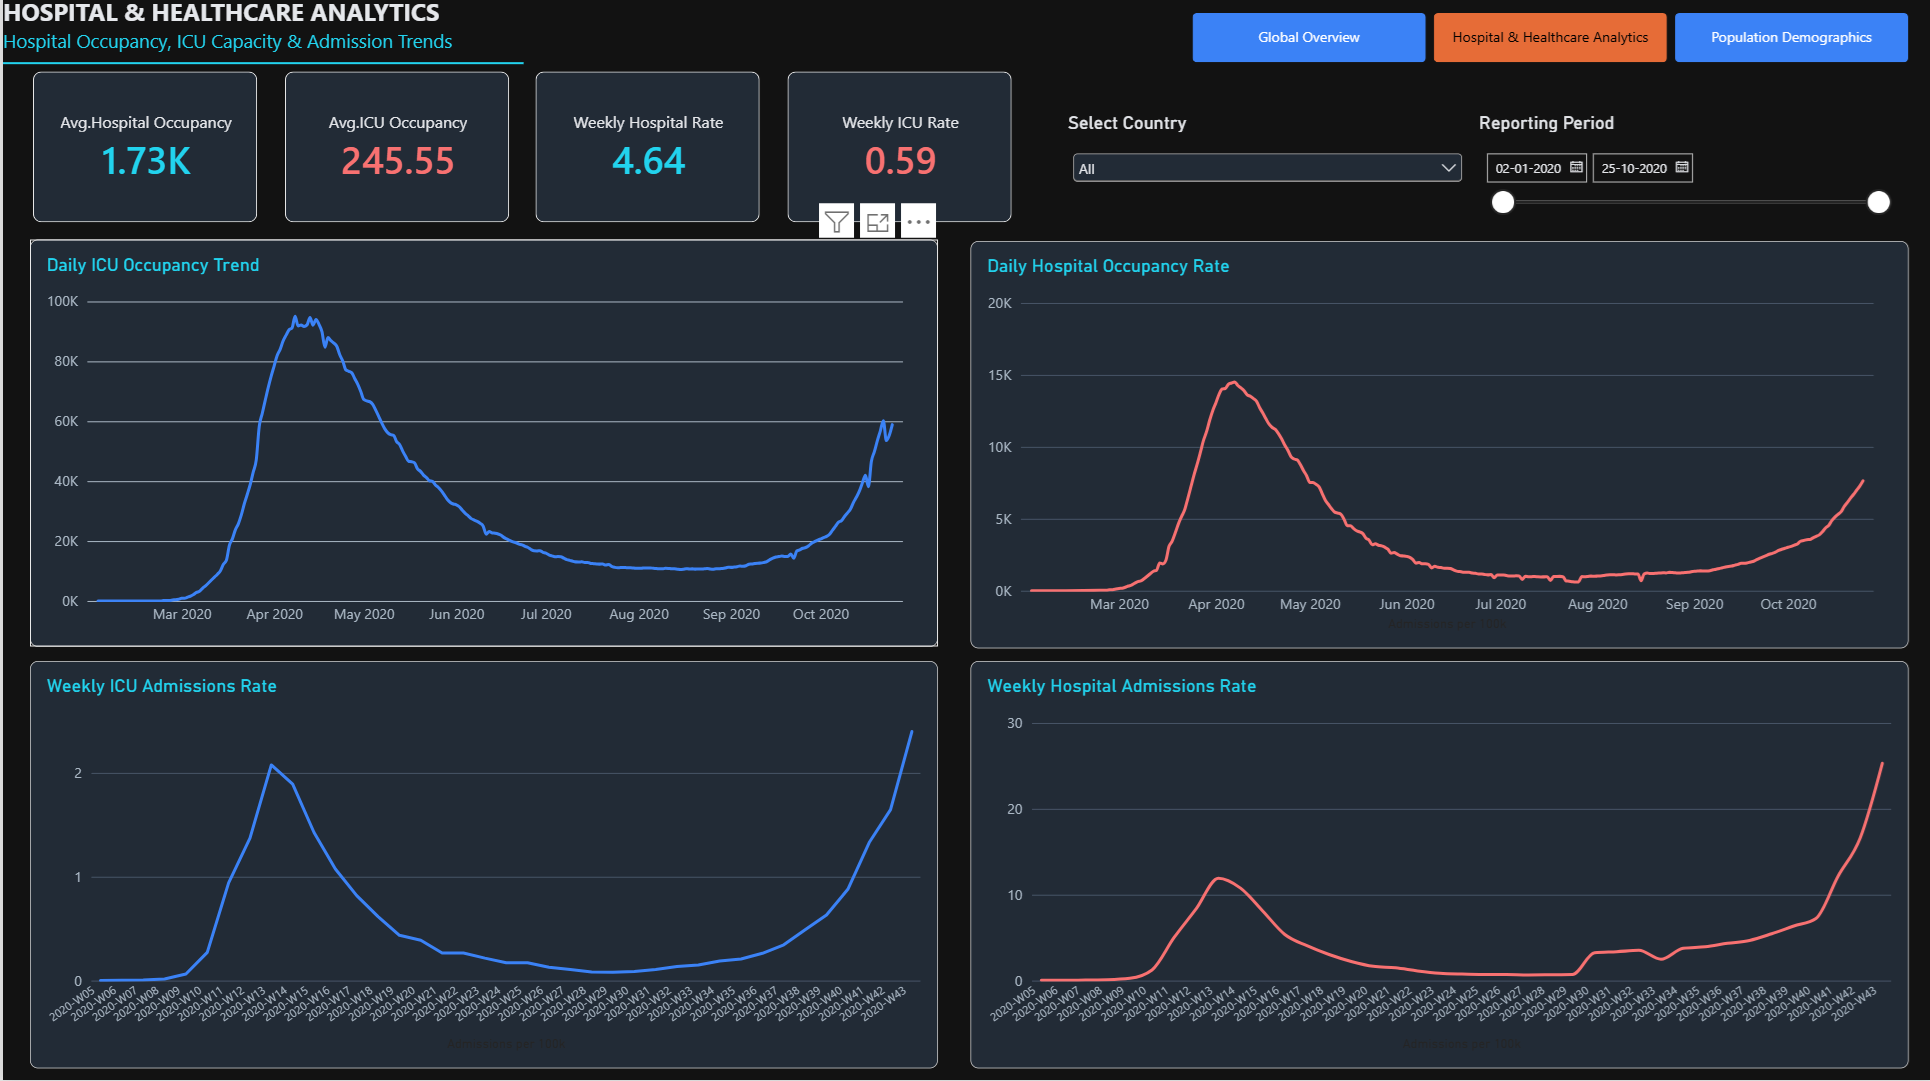

What the dashboard file says about the page in this screenshot:
{"tool":"powerbi","page":{"name":"Hospital & Healthcare Analytics","canvas":[1920,1080],"ordinal":1},"visuals":[{"type":"textbox","box":[0,0,695,33.3],"z":0},{"type":"textbox","box":[0,33.3,695,33.3],"z":1000},{"type":"cardVisual","fields":{"Data":["DAX_Measures.Average Hospital Occupancy"]},"box":[29.4,76.7,223.3,150],"z":2000},{"type":"cardVisual","fields":{"Data":["DAX_Measures.Average ICU Occupancy"]},"box":[280,76.7,223.3,150],"z":3000},{"type":"cardVisual","fields":{"Data":["DAX_Measures.Weekly Hospital Admissions Rate"]},"box":[530.6,76.7,223.3,150],"z":4000},{"type":"cardVisual","fields":{"Data":["DAX_Measures.Weekly ICU Admissions Rate"]},"box":[781.1,76.7,223.3,150],"z":5000},{"type":"lineChart","title":"Daily ICU Occupancy Trend","fields":{"Category":["analytics dim_date.full_date"],"Y":["DAX_Measures.Daily Hospital Occupancy"]},"box":[26.7,243.3,903.3,405],"z":6000},{"type":"lineChart","title":"Daily Hospital Occupancy Rate","fields":{"Category":["analytics dim_date.full_date"],"Y":["DAX_Measures.Daily ICU Occupancy"]},"box":[963.3,245,933.3,405],"z":7000},{"type":"lineChart","title":"Weekly ICU Admissions Rate","fields":{"Category":["analytics fact_hospital_weekly.YearWeekLabel"],"Y":["DAX_Measures.Weekly ICU Admissions Rate"]},"box":[26.7,663.3,903.3,405],"z":8000},{"type":"lineChart","title":"Weekly Hospital Admissions Rate","fields":{"Category":["analytics fact_hospital_weekly.YearWeekLabel"],"Y":["DAX_Measures.Weekly Hospital Admissions Rate"]},"box":[963.3,663.3,933.3,405],"z":9000},{"type":"slicer","title":"Select Country","fields":{"Values":["analytics dim_country.country_name"]},"box":[1060,116.7,396.7,101.7],"z":10000},{"type":"slicer","title":"Reporting Period","fields":{"Values":["analytics dim_date.full_date"]},"box":[1468.3,116.7,413.3,101.7],"z":11000},{"type":"pageNavigator","box":[1183.4,17.6,713,50],"z":12000},{"type":"shape","box":[0,53.6,518.2,28.2],"z":13000}]}

Visuals, with their boxes in screenshot pixels (x1, y1, x2, y2), scaled from the page's 1920x1080 canvas onto the 1930x1081 screenshot:
textbox: {"x1": 0, "y1": 0, "x2": 699, "y2": 33}
textbox: {"x1": 0, "y1": 33, "x2": 699, "y2": 67}
cardVisual - DAX_Measures.Average Hospital Occupancy: {"x1": 30, "y1": 77, "x2": 254, "y2": 227}
cardVisual - DAX_Measures.Average ICU Occupancy: {"x1": 281, "y1": 77, "x2": 506, "y2": 227}
cardVisual - DAX_Measures.Weekly Hospital Admissions Rate: {"x1": 533, "y1": 77, "x2": 758, "y2": 227}
cardVisual - DAX_Measures.Weekly ICU Admissions Rate: {"x1": 785, "y1": 77, "x2": 1010, "y2": 227}
"Daily ICU Occupancy Trend" lineChart: {"x1": 27, "y1": 244, "x2": 935, "y2": 649}
"Daily Hospital Occupancy Rate" lineChart: {"x1": 968, "y1": 245, "x2": 1906, "y2": 651}
"Weekly ICU Admissions Rate" lineChart: {"x1": 27, "y1": 664, "x2": 935, "y2": 1069}
"Weekly Hospital Admissions Rate" lineChart: {"x1": 968, "y1": 664, "x2": 1906, "y2": 1069}
"Select Country" slicer: {"x1": 1066, "y1": 117, "x2": 1464, "y2": 219}
"Reporting Period" slicer: {"x1": 1476, "y1": 117, "x2": 1891, "y2": 219}
pageNavigator: {"x1": 1190, "y1": 18, "x2": 1906, "y2": 68}
shape: {"x1": 0, "y1": 54, "x2": 521, "y2": 82}
